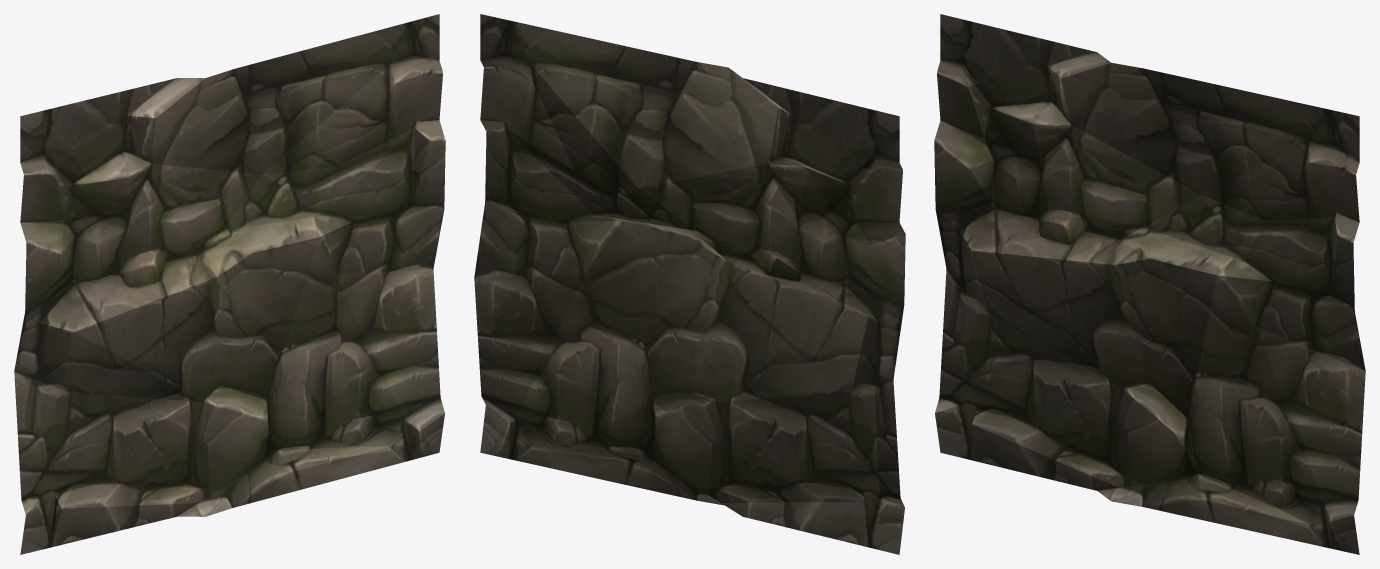
Rendered from wall.fbx.
The picture shows the model from 3 angles, left to right: view 1: azimuth 30°, elevation 25°; view 2: azimuth 150°, elevation 25°; view 3: azimuth 330°, elevation 25°; orthographic projection.
Parts seen in each view (by area): view 1: wall; view 2: wall; view 3: wall.
Boxes of the visible parts, <box> form: wall: <box>14,14,445,554</box>; wall: <box>474,14,905,554</box>; wall: <box>934,14,1365,554</box>.
Size of the model in its own units: 400 by 400 by 34.37.
